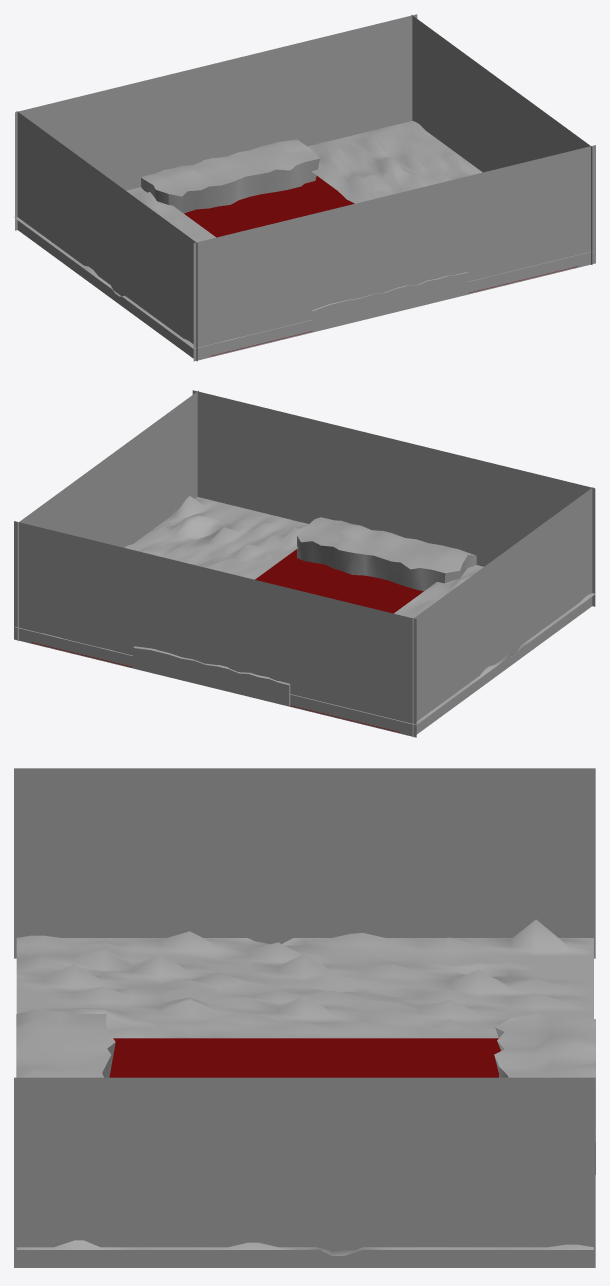
Rendered from test_section1_01.fbx.
The picture shows the model from 3 angles, top to bottom: view 1: azimuth 30°, elevation 25°; view 2: azimuth 150°, elevation 25°; view 3: azimuth 270°, elevation 25°; orthographic projection. The views are drawn at different scales.
Parts seen in each view (by area): view 1: backWall, frontWall, rightWall, leftWall, floor1, endingPlatform, floor_middle, startingPlatform, floor; view 2: frontWall, backWall, rightWall, leftWall, floor1, startingPlatform, floor_middle, endingPlatform, floor; view 3: leftWall, rightWall, floor, floor_middle, startingPlatform, endingPlatform, floor1.
Boxes of the visible parts, <box> form: backWall: <box>193,145,595,361</box>; frontWall: <box>15,14,417,230</box>; rightWall: <box>16,111,197,361</box>; leftWall: <box>411,15,592,264</box>; floor1: <box>307,120,594,281</box>; endingPlatform: <box>141,139,319,213</box>; floor_middle: <box>184,176,577,356</box>; startingPlatform: <box>312,272,468,331</box>; floor: <box>14,187,311,348</box>; frontWall: <box>14,521,416,737</box>; backWall: <box>192,390,595,606</box>; rightWall: <box>412,487,593,737</box>; leftWall: <box>17,390,198,640</box>; floor1: <box>15,495,308,655</box>; startingPlatform: <box>297,517,476,591</box>; floor_middle: <box>31,549,423,732</box>; endingPlatform: <box>133,646,290,706</box>; floor: <box>290,565,595,724</box>; leftWall: <box>14,1077,595,1267</box>; rightWall: <box>14,768,595,958</box>; floor: <box>16,919,593,1038</box>; floor_middle: <box>109,1038,500,1077</box>; startingPlatform: <box>16,1010,115,1077</box>; endingPlatform: <box>494,1014,595,1174</box>; floor1: <box>16,1240,593,1255</box>.
Bounding box in the file's own units: 64.19 × 18.04 × 50.03.
